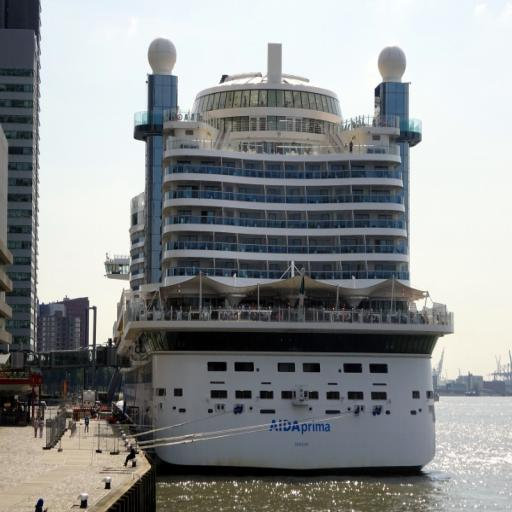cruises: (104, 29, 459, 487)
